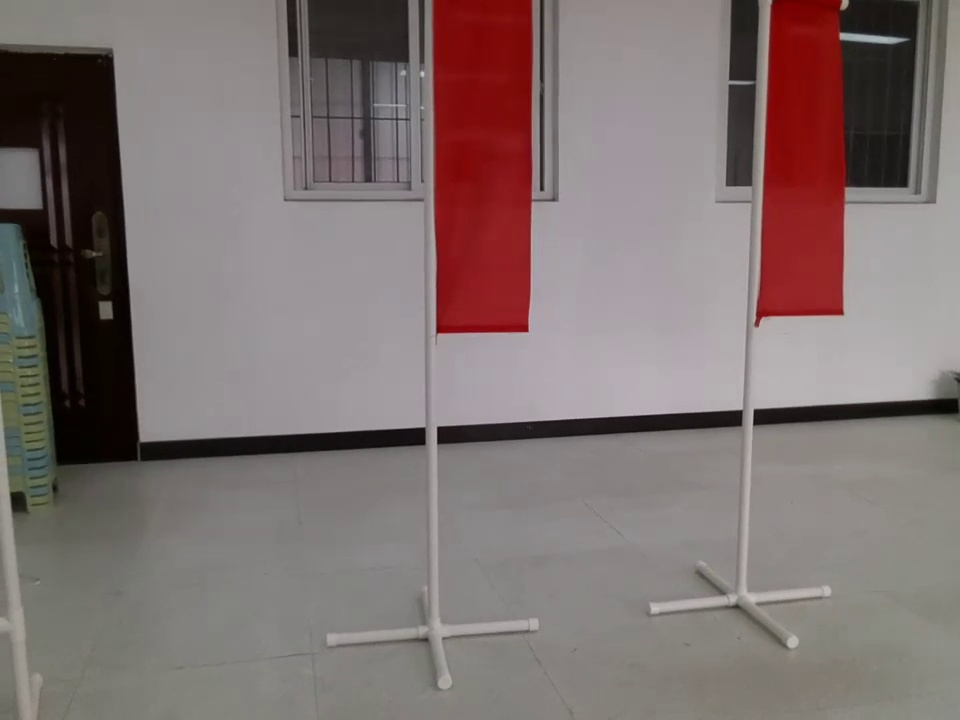qi: (397, 1, 538, 342), (744, 1, 865, 323)
